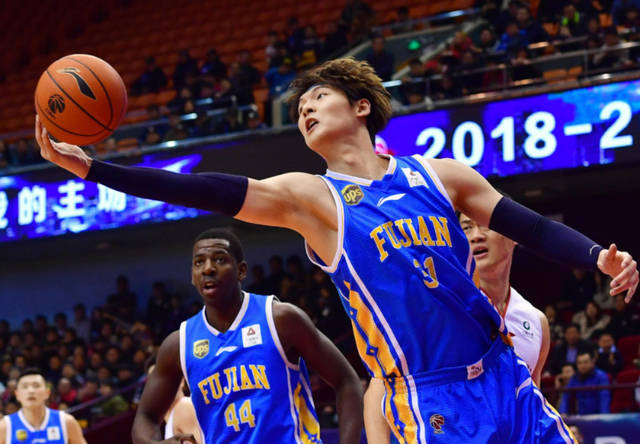ball: (33, 52, 127, 145)
